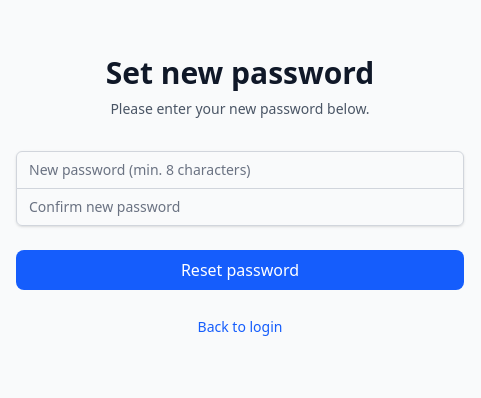
Test: ResetPasswordPage Component › should show error when password is too short
In the password field labelled "New password": (240, 170) [16,150,464,188], type "short"
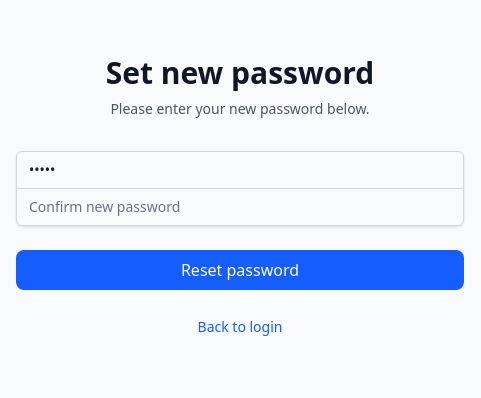
In the password field named "Confirm Password": (240, 206) [16,188,464,226], type "short"
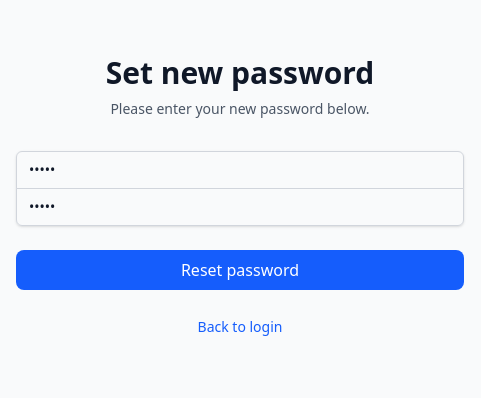
Click the button "Reset password": (240, 270) [16,250,464,290]
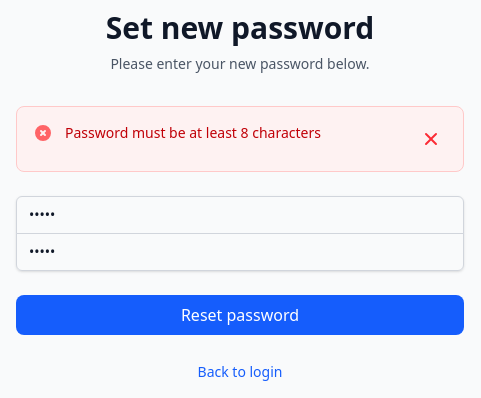
Now the text "Password must be at least 8 characters" is shown, box [65,122,321,142]
